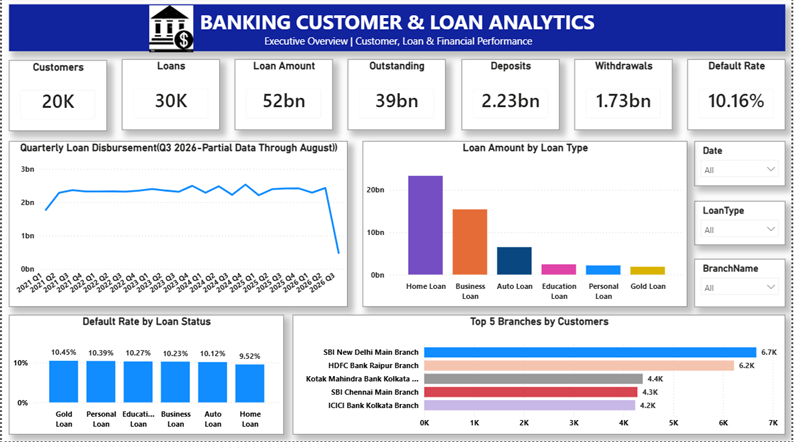

Layout of this report page (visuals, bound fields, positions):
{"tool":"powerbi","page":{"name":"Executive Overview","canvas":[1280,720],"ordinal":0},"visuals":[{"type":"textbox","box":[11.3,11.3,1258.1,76.1],"z":0},{"type":"slicer","fields":{"Values":["DateDim.Date"]},"box":[1122.1,233.2,147.3,72.9],"z":1000},{"type":"slicer","fields":{"Values":["Loan.LoanType"]},"box":[1122.1,329.5,147.3,71.2],"z":2000},{"type":"cardVisual","title":" Customers","fields":{"Data":["Account.Total customers"]},"box":[11.3,102,158.7,115],"z":3000},{"type":"cardVisual","title":"Outstanding","fields":{"Data":["Account.Outstanding amount"]},"box":[561.1,100.4,158.7,115],"z":4000},{"type":"cardVisual","title":"Loans","fields":{"Data":["Account.Total loans"]},"box":[194.6,100.4,158.7,115],"z":5000},{"type":"cardVisual","title":"Withdrawals","fields":{"Data":["Account.Total withdrawals"]},"box":[927.5,100.4,158.7,115],"z":6000},{"type":"cardVisual","title":"Loan Amount","fields":{"Data":["Account.Total loan amount"]},"box":[377.8,100.4,158.7,115],"z":7000},{"type":"cardVisual","title":" Deposits","fields":{"Data":["Account.Total deposits"]},"box":[744.3,100.4,158.7,115],"z":8000},{"type":"cardVisual","title":"Default Rate","fields":{"Data":["Account.Default Rate1"]},"box":[1110.8,100.4,158.7,115],"z":9000},{"type":"lineChart","title":"Quarterly Loan Disbursement(Q3 2026-Partial Data Through August))","fields":{"Category":["DateDim.Year Quarter"],"Y":["Sum(Loan.LoanAmount)"]},"box":[11.3,233.2,548.9,268.8],"z":10000},{"type":"clusteredColumnChart","title":" Loan Amount by Loan Type","fields":{"Category":["Loan.LoanType"],"Y":["Sum(Loan.LoanAmount)"]},"box":[584.5,233.2,526.2,268.8],"z":11000},{"type":"clusteredColumnChart","title":"Default Rate by  Loan Status","fields":{"Category":["Loan.LoanType"],"Y":["Account.Default Rate1"]},"box":[11.3,514.9,445.3,194.3],"z":12000},{"type":"slicer","fields":{"Values":["Branch.BranchName"]},"box":[1122.1,424.2,147.3,77.7],"z":13000},{"type":"clusteredBarChart","title":"Top 5 Branches by Customers","fields":{"Category":["Branch.BranchName"],"Y":["CountNonNull(Account.CustomerID)"]},"box":[471.2,514.9,798.3,194.3],"z":14000},{"type":"image","box":[238,13,72.9,76.1],"z":21000}]}

Visuals, with their boxes in screenshot pixels (x1, y1, x2, y2), scaled from the page's 1280x720 canvas onto the 798x448 screenshot:
textbox: region(7, 7, 791, 54)
slicer - DateDim.Date: region(700, 145, 791, 190)
slicer - Loan.LoanType: region(700, 205, 791, 249)
" Customers" cardVisual: region(7, 63, 106, 135)
"Outstanding" cardVisual: region(350, 62, 449, 134)
"Loans" cardVisual: region(121, 62, 220, 134)
"Withdrawals" cardVisual: region(578, 62, 677, 134)
"Loan Amount" cardVisual: region(236, 62, 334, 134)
" Deposits" cardVisual: region(464, 62, 563, 134)
"Default Rate" cardVisual: region(693, 62, 791, 134)
"Quarterly Loan Disbursement(Q3 2026-Partial Data Through August))" lineChart: region(7, 145, 349, 312)
" Loan Amount by Loan Type" clusteredColumnChart: region(364, 145, 692, 312)
"Default Rate by  Loan Status" clusteredColumnChart: region(7, 320, 285, 441)
slicer - Branch.BranchName: region(700, 264, 791, 312)
"Top 5 Branches by Customers" clusteredBarChart: region(294, 320, 791, 441)
image: region(148, 8, 194, 55)
